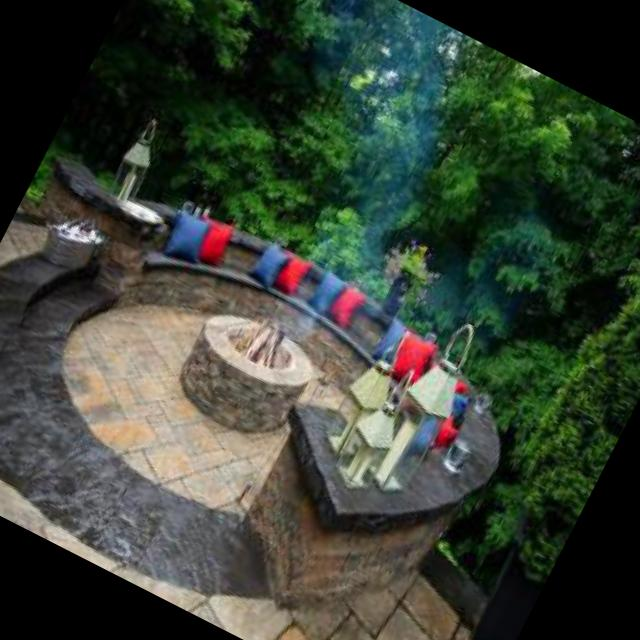smoke: (273, 242, 362, 374)
